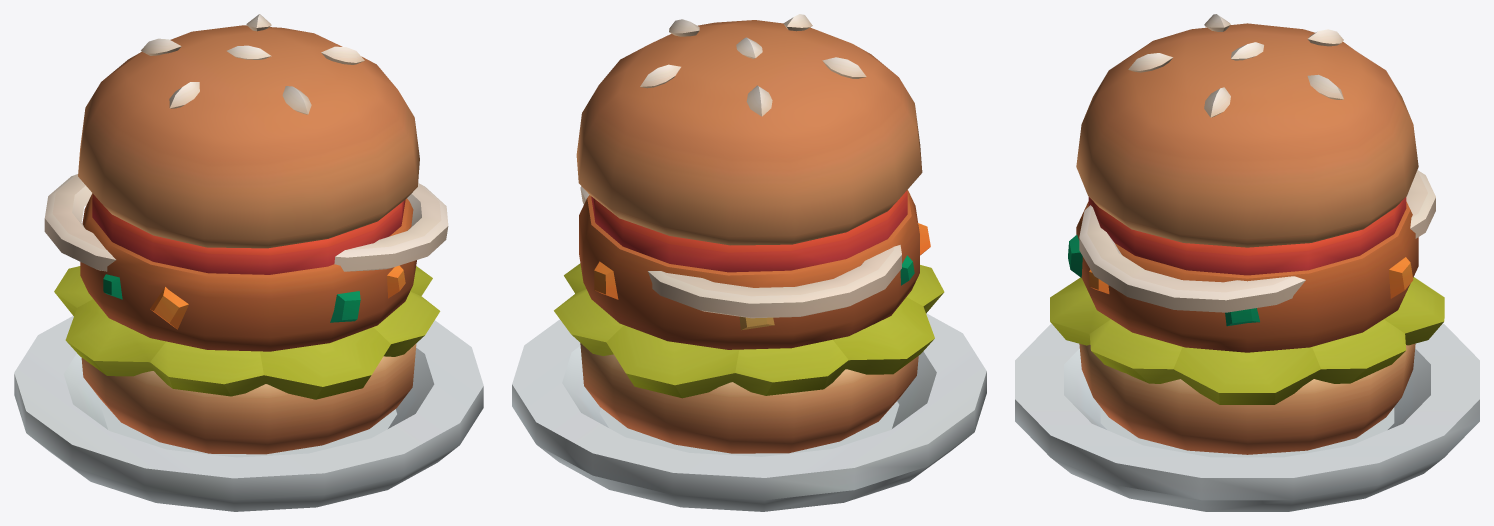
The model's file is veggie-burger.glb.
3 views of the same model, side by side, from view 1: azimuth 30°, elevation 25°; view 2: azimuth 150°, elevation 25°; view 3: azimuth 270°, elevation 25° (orthographic).
Visible parts, largest first — view 1: food_vegetableburger; view 2: food_vegetableburger; view 3: food_vegetableburger.
Boxes of the visible parts, left/top/right/bottom form: food_vegetableburger: left=14, top=14, right=483, bottom=511; food_vegetableburger: left=512, top=14, right=986, bottom=511; food_vegetableburger: left=1015, top=14, right=1479, bottom=511.
Size of the model in its own units: 0.95 by 0.8572 by 0.95.
Materials: 1 (1 with a texture image).
